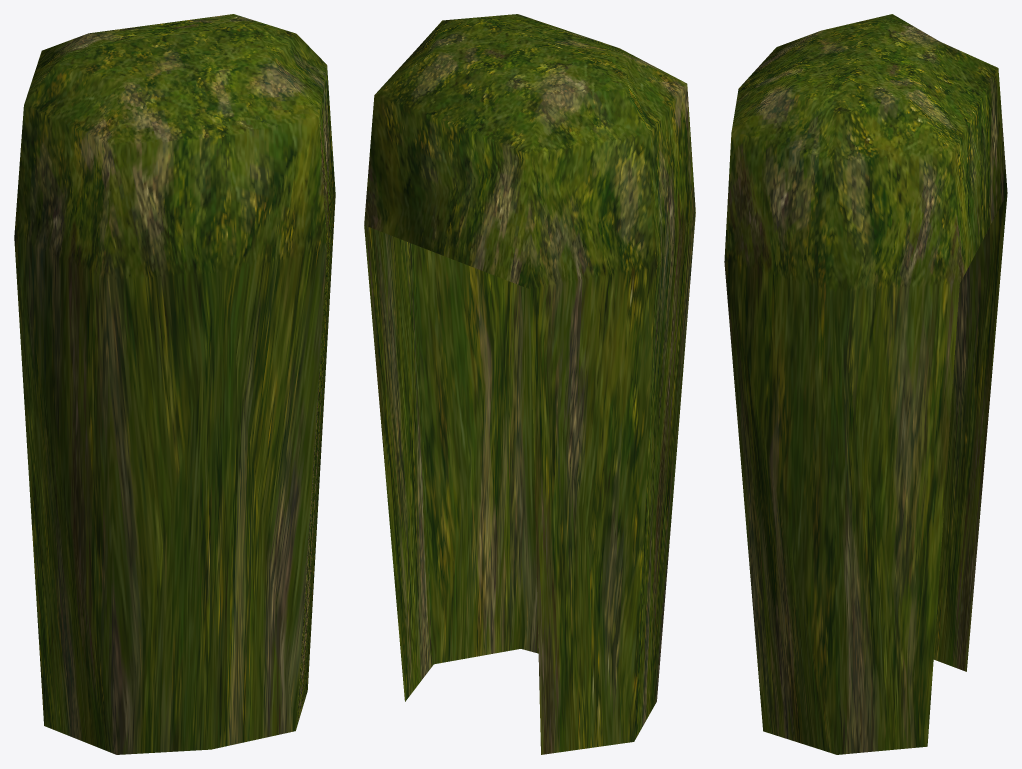
The model's file is OVERHILL_A_01_BOX01.fbx.
3 views of the same model, side by side, from view 1: azimuth 30°, elevation 25°; view 2: azimuth 150°, elevation 25°; view 3: azimuth 270°, elevation 25° (orthographic). The views are drawn at different scales.
Parts seen in each view (by area): view 1: OVERHILL_A_01_BOX01; view 2: OVERHILL_A_01_BOX01; view 3: OVERHILL_A_01_BOX01.
Part boxes in pixels (x1,y1,x2,y2): OVERHILL_A_01_BOX01: (14, 14, 335, 754); OVERHILL_A_01_BOX01: (364, 14, 695, 754); OVERHILL_A_01_BOX01: (724, 14, 1007, 754).
Bounding box in the file's own units: 26630 × 60100 × 23759.
Materials: 1 (1 with a texture image).
